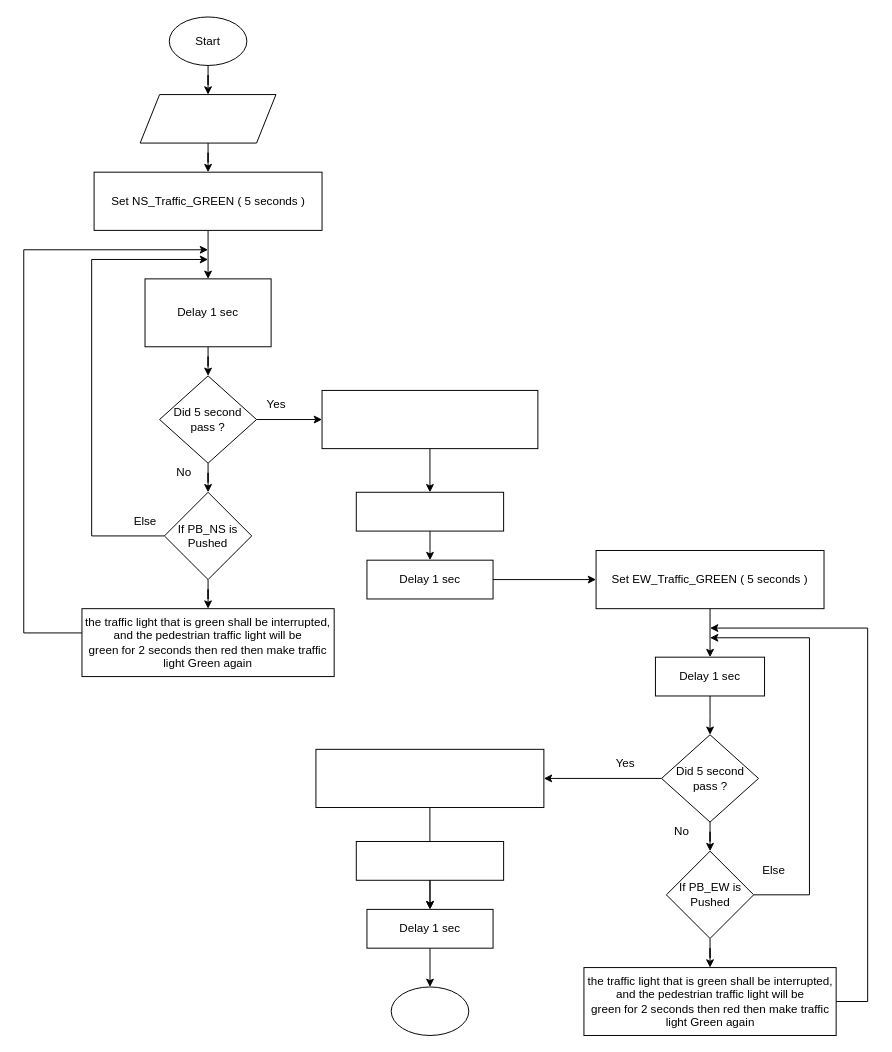
Image size: 892x1052. Some labels were removed from this diagram. Each missing label, with the box of its shape:
End: (390, 986, 469, 1035)
PB_NS, PB_EW: (139, 94, 276, 143)
Set EW_Traffic_Red: (355, 841, 504, 880)
Set EW_Traffic_YELLOW ( 2 seconds ): (315, 748, 544, 808)
Set NS_Traffic_Red: (355, 491, 504, 531)
Set NS_Traffic_YELLOW ( 2 seconds ): (321, 389, 538, 449)
